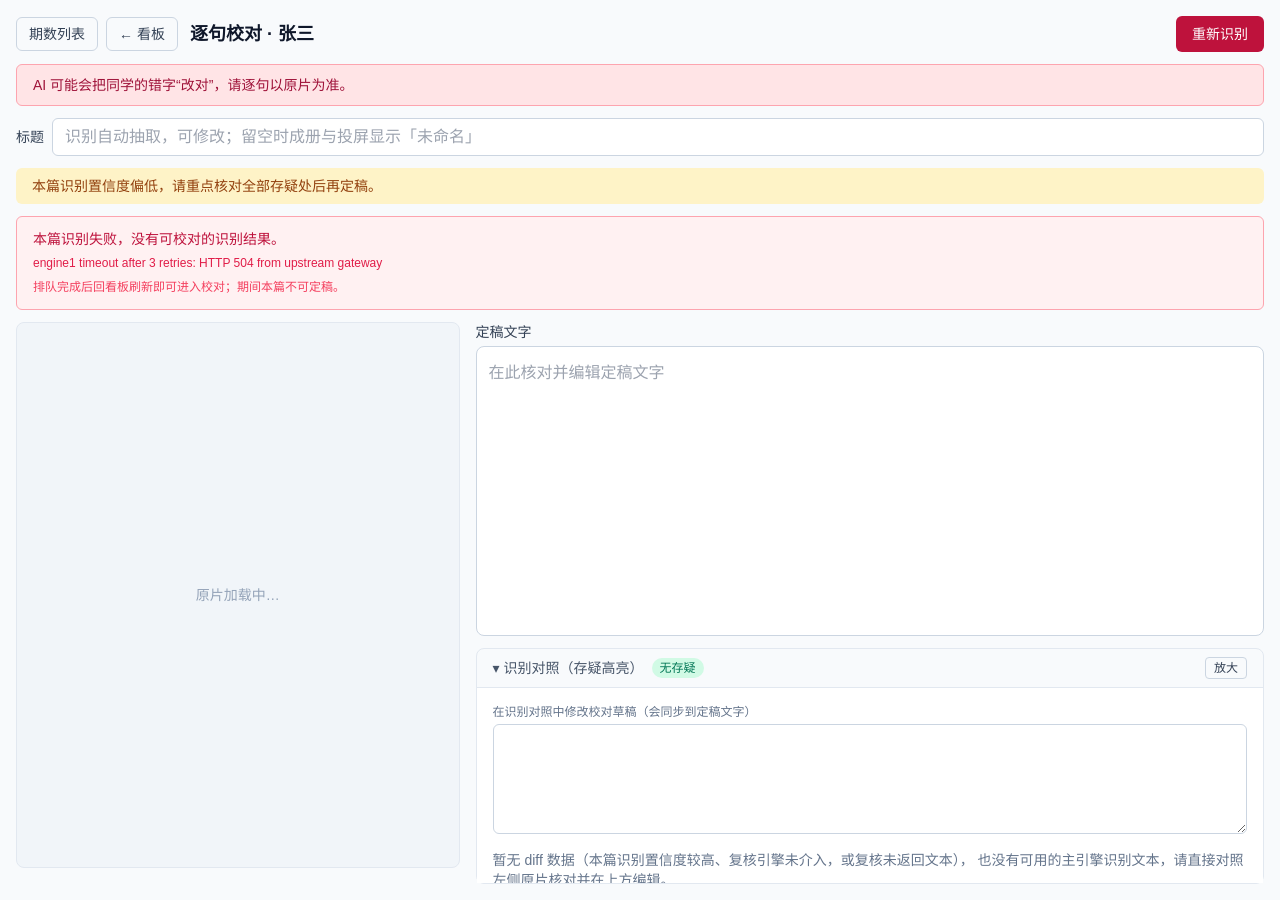
ProofreadPage › re-queues a failed essay and reports 已重新排队识别
Click the button with test id "failed-retry".
click(1220, 34)  # box left=1176, top=16, right=1264, bottom=52
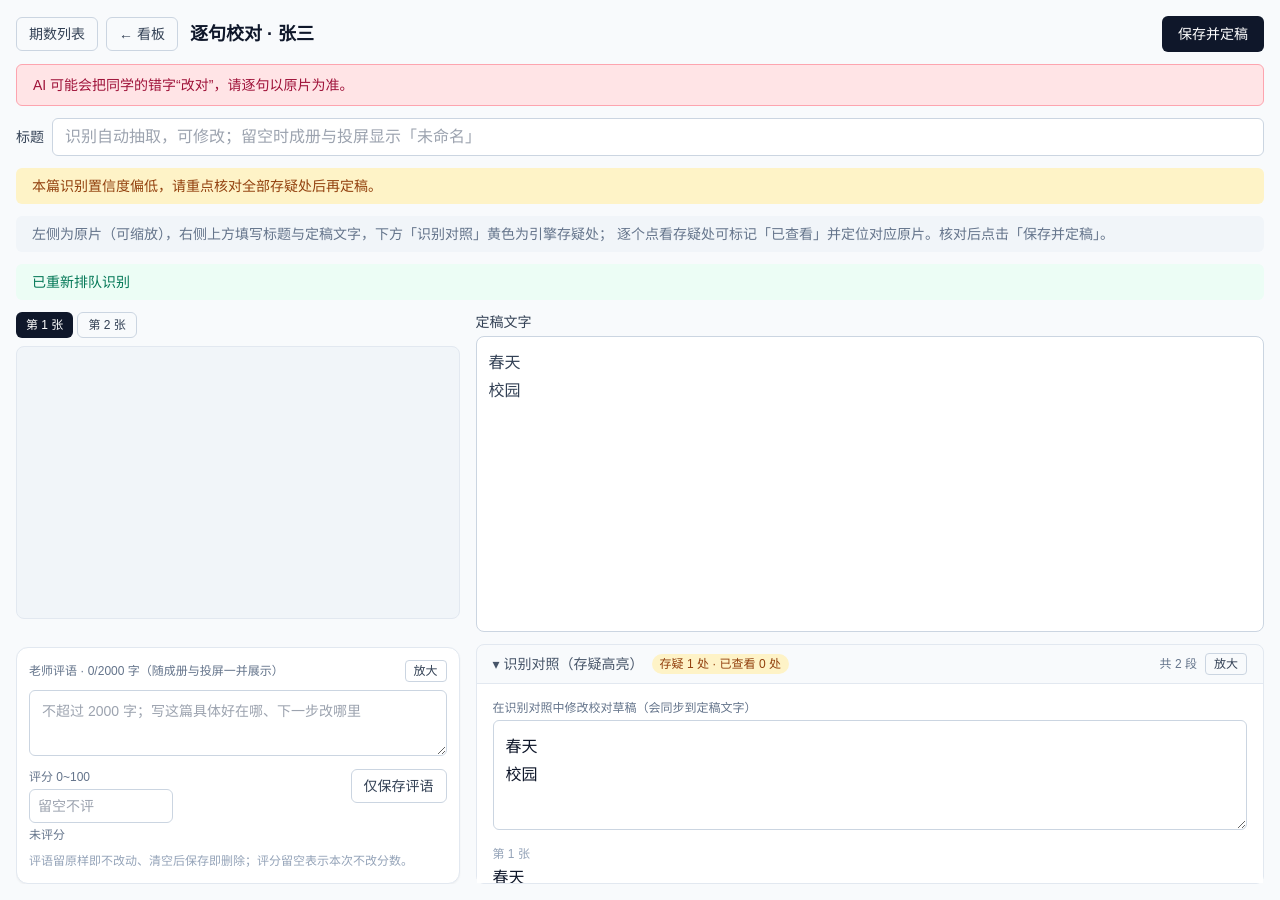
Expected: the heading "逐句校对 · 张三" is shown, left=190, top=20, right=314, bottom=48
Expected: the text "已重新排队识别" is shown, left=16, top=264, right=1264, bottom=300
